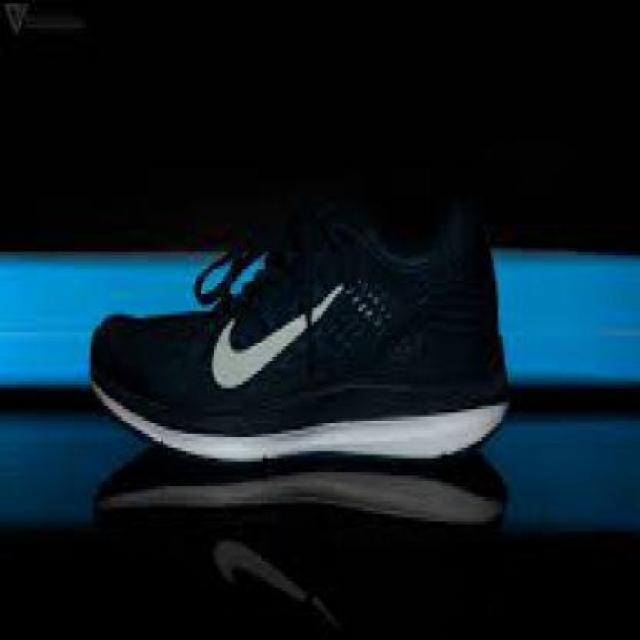Nike: (205, 269, 338, 389)
